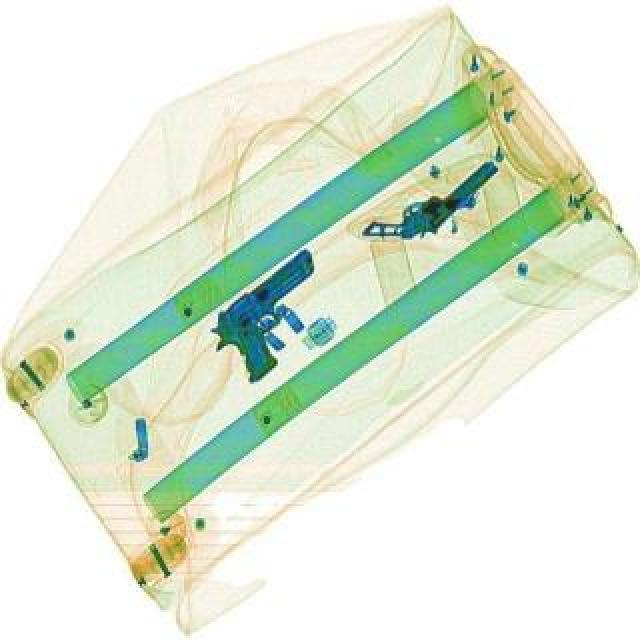gun: (194, 246, 358, 386), (358, 134, 498, 264)
